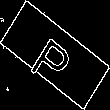P_NE: (29, 24, 81, 86)
